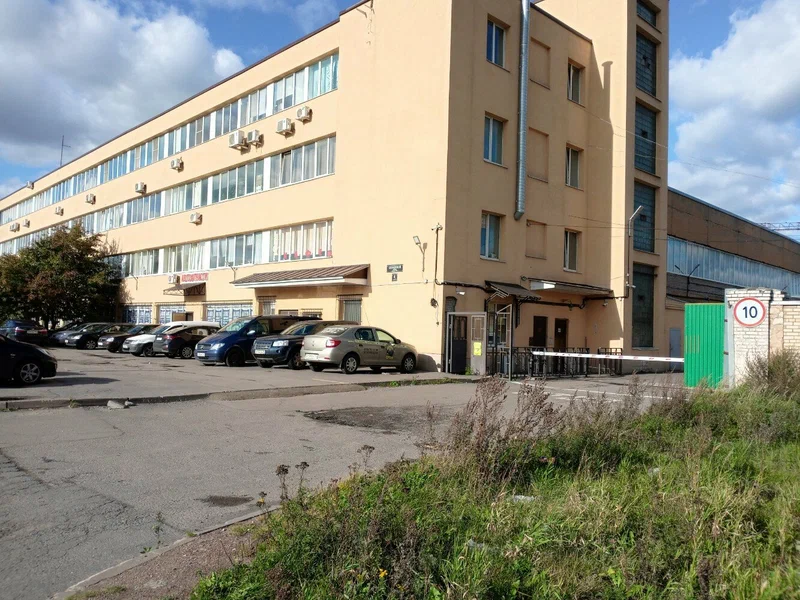Car: (194, 315, 322, 366), (300, 324, 419, 373), (251, 319, 360, 370), (122, 321, 220, 356), (0, 334, 58, 384), (153, 324, 221, 359), (97, 324, 162, 353), (64, 323, 134, 349), (50, 322, 108, 344), (0, 319, 48, 344), (48, 320, 89, 342)
